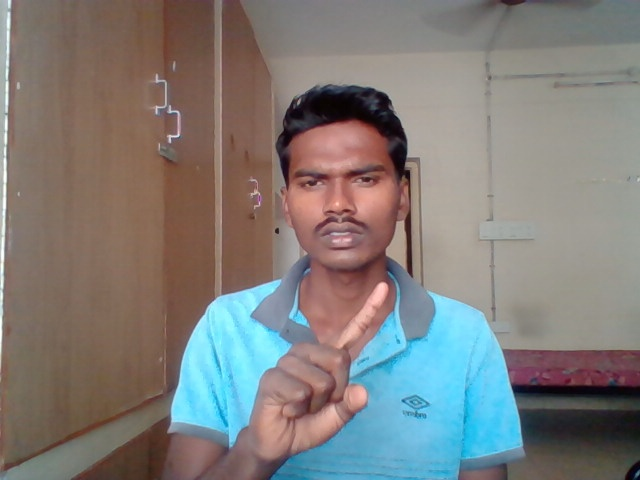No: (248, 279, 392, 460)
